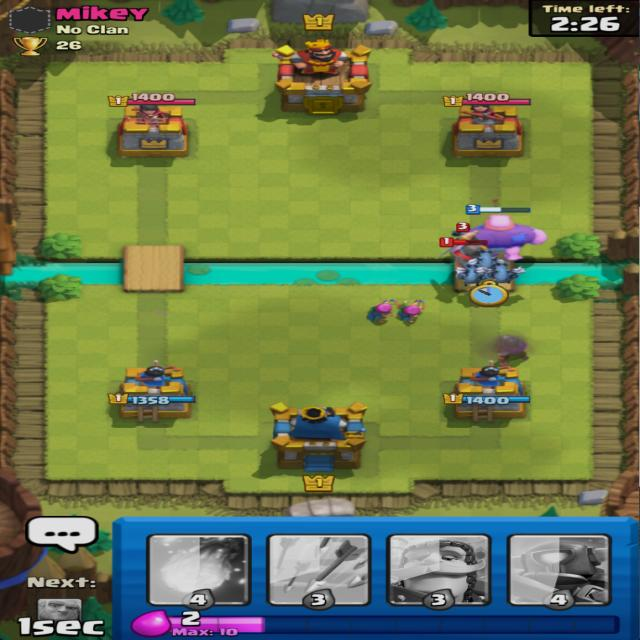6_Elixer: (182, 611, 201, 626)
Archer_Troop: (397, 297, 430, 326), (364, 297, 395, 325)
Arrows_Loading: (266, 533, 371, 611)
Bridge: (123, 246, 181, 292)
Elixer_Bar: (130, 609, 623, 637)
Emote: (27, 516, 100, 553)
Enemy_King_Tower: (257, 39, 374, 125)
Enemy_Knight_Troop: (436, 244, 492, 268)
Enemy_Princess_Tower: (94, 92, 204, 168), (438, 92, 534, 168)
Fireball_Loading: (147, 534, 250, 610)
Giant_Next: (17, 576, 108, 637)
Giant_Troop: (464, 215, 552, 258)
King_Tower: (251, 402, 367, 479)
Knight_Loading: (388, 534, 491, 608)
Mini_Pekka_Loading: (508, 534, 611, 611)
Minion_Troop: (483, 261, 528, 284), (454, 264, 491, 285), (471, 251, 506, 268)
Musketeer_Troop: (493, 334, 533, 364)
Princess_Tower: (439, 360, 531, 430), (102, 361, 196, 428)
River: (185, 258, 455, 283), (0, 256, 121, 284), (510, 258, 640, 283)
Time_Left: (529, 0, 640, 36)
